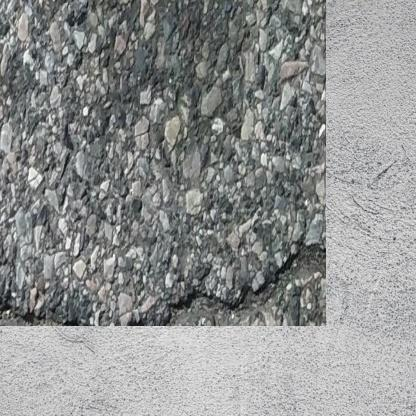Cracks: (141, 224, 301, 301), (0, 272, 84, 302)
